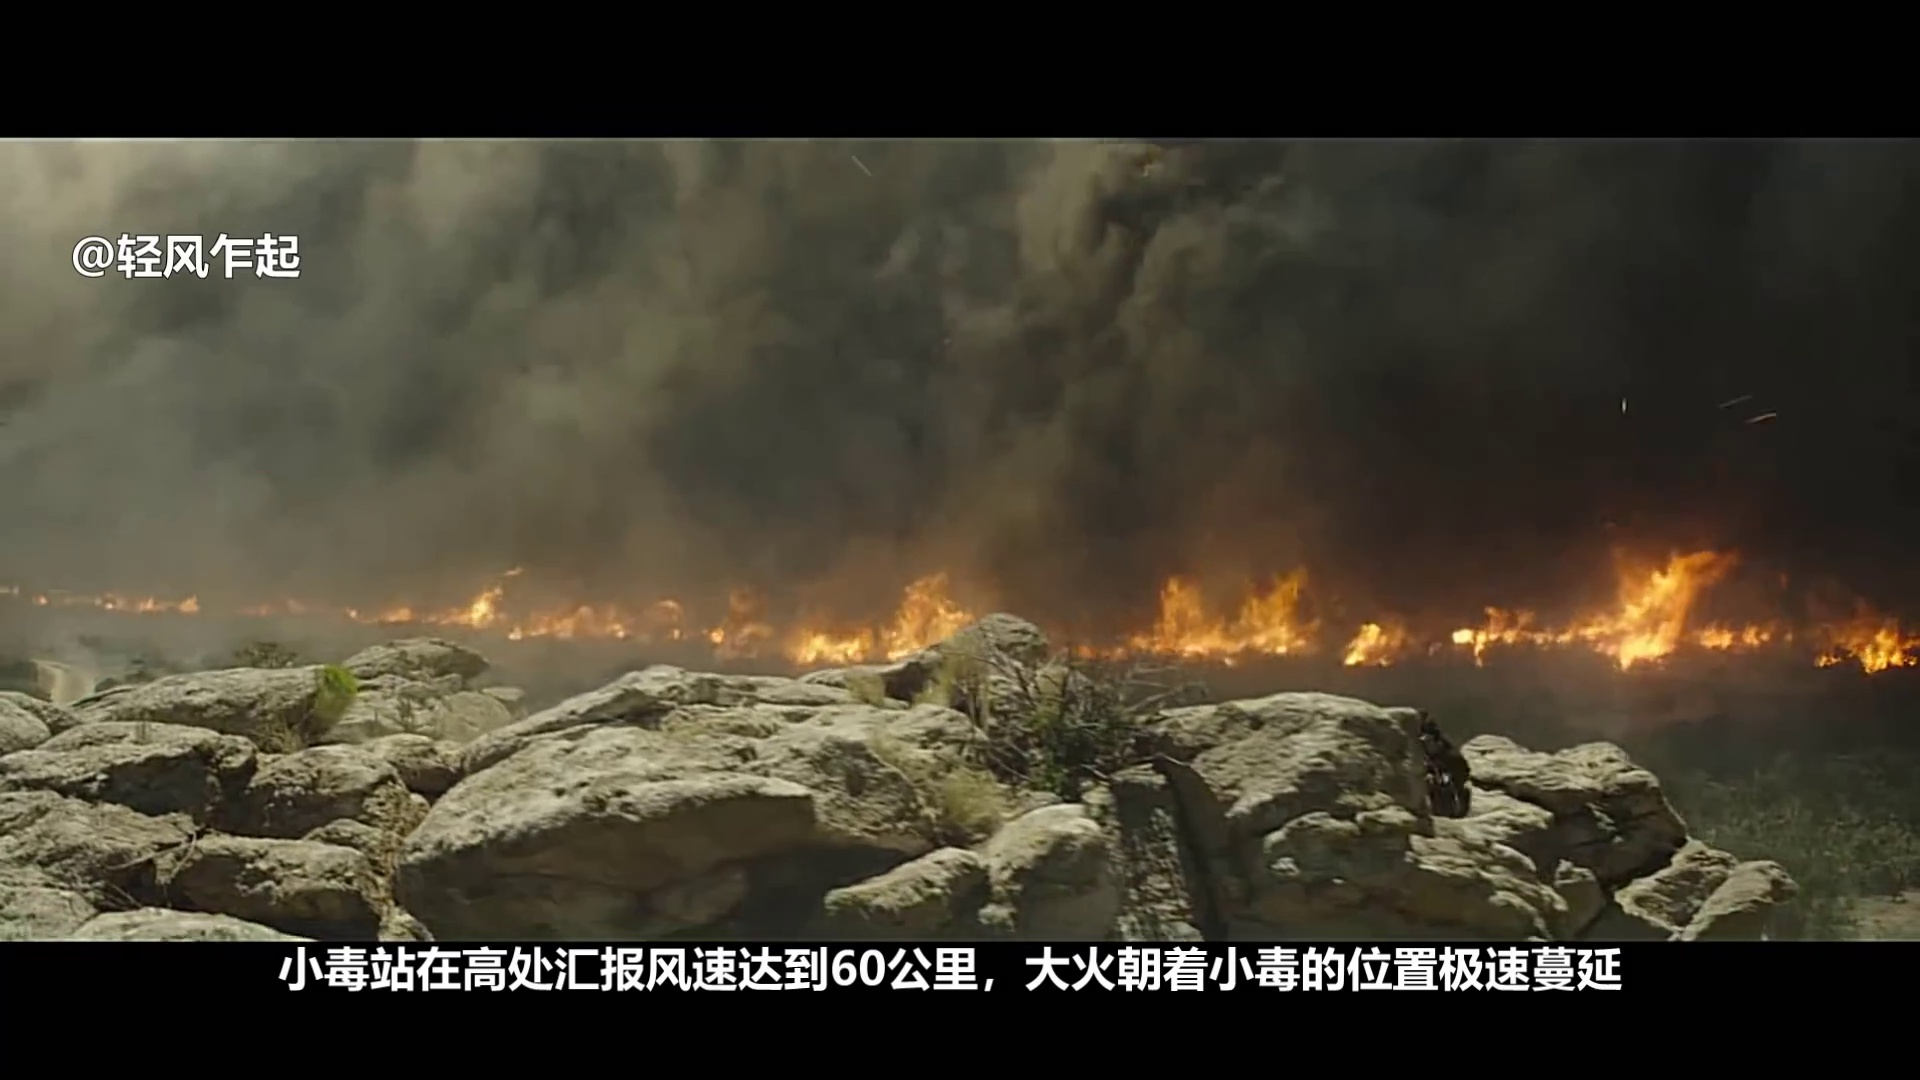fire: (1159, 582, 1302, 649), (1615, 556, 1693, 659), (891, 588, 957, 642), (800, 628, 864, 665), (1867, 624, 1903, 670), (471, 588, 496, 626)
